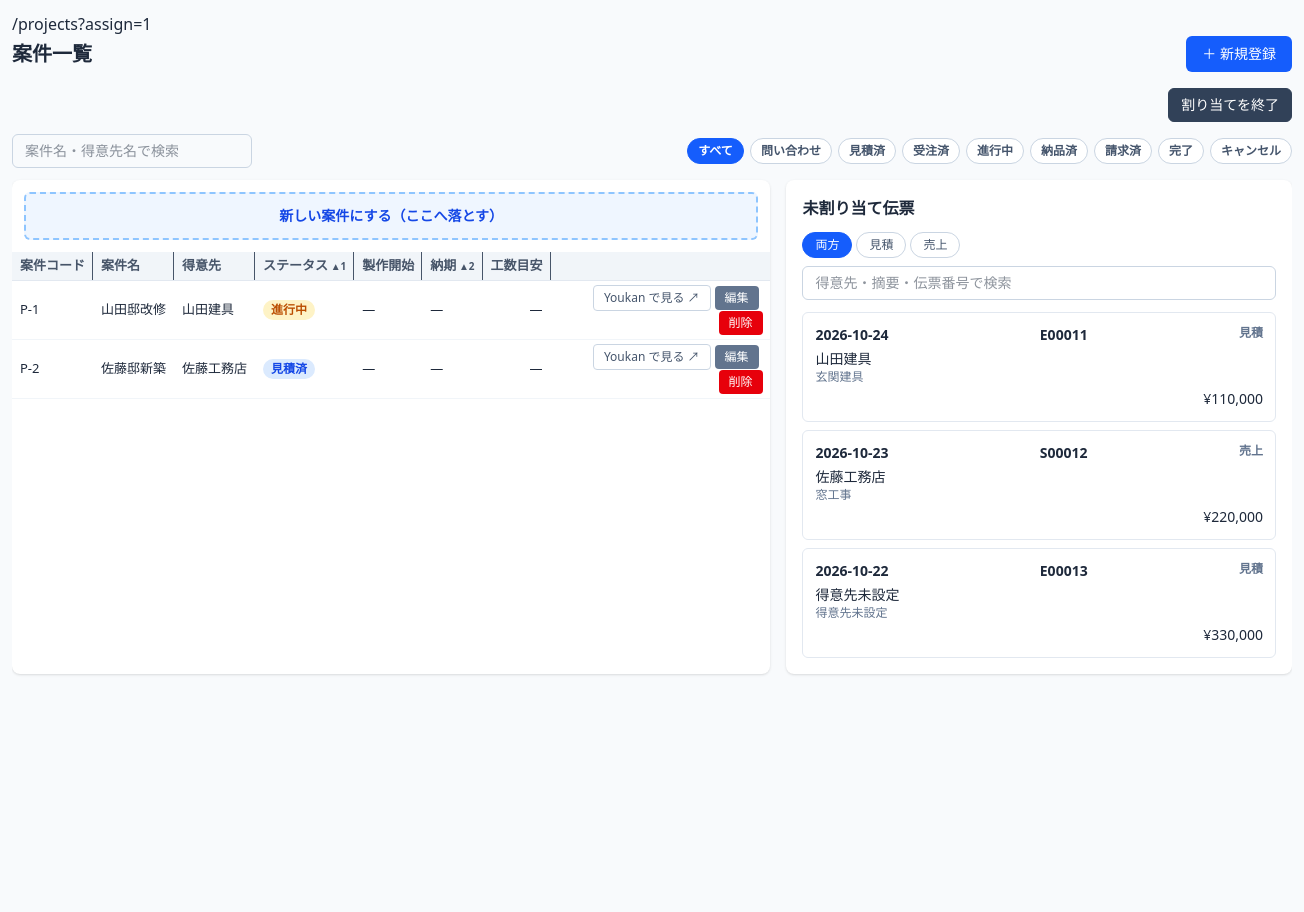
R-0198 未割り当て伝票による案件の得意先絞り込み › カードをクリックすると案件取得とURLに伝票のcustomer_idが入り、得意先名を表示する
Click the element with test id "unlinked-voucher-11".
click(1039, 367)  # box x1=802 y1=312 x2=1276 y2=422
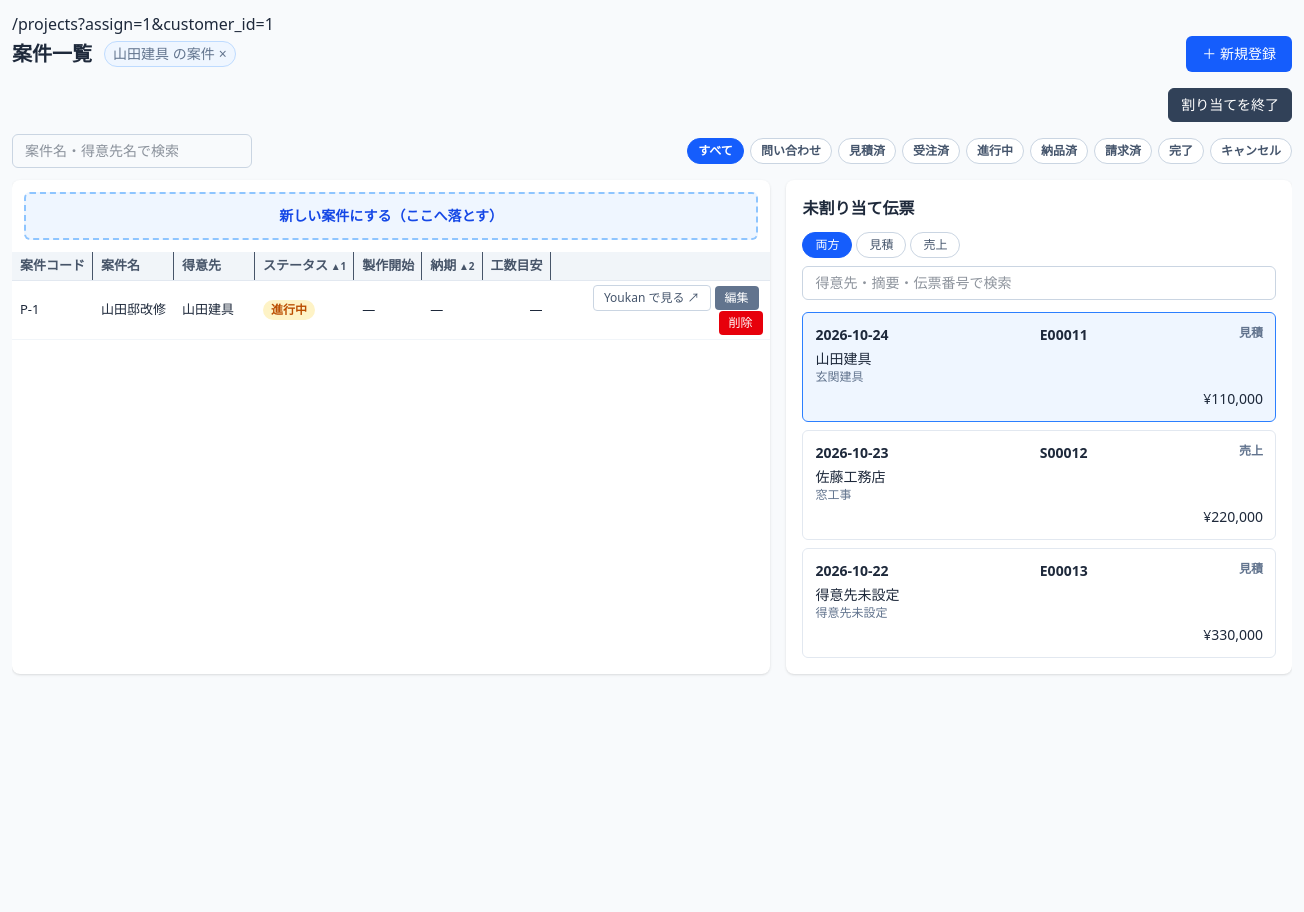
Check: the text with test id "location" shows "customer_id=1", box x1=78 y1=13 x2=274 y2=35
Check: the button "山田建具 の案件×" is shown, box x1=104 y1=41 x2=236 y2=67
